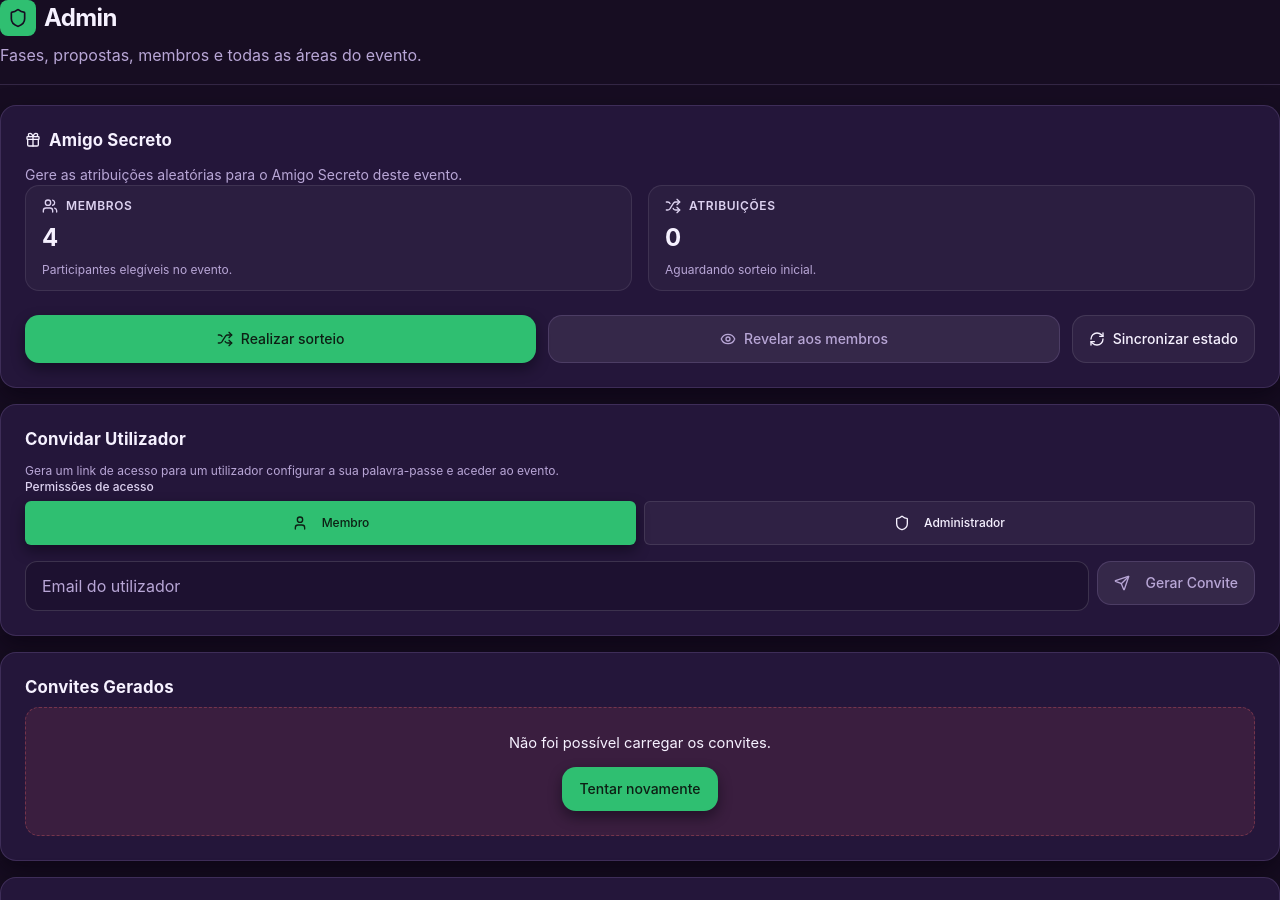
Test: CanhoesAdminModule — members › generates an invite link
Type "eva@canhoes.pt" into the field with placeholder "Email do utilizador".
click(557, 586); type("eva@canhoes.pt")  # box top-left (25, 561), bottom-right (1088, 611)
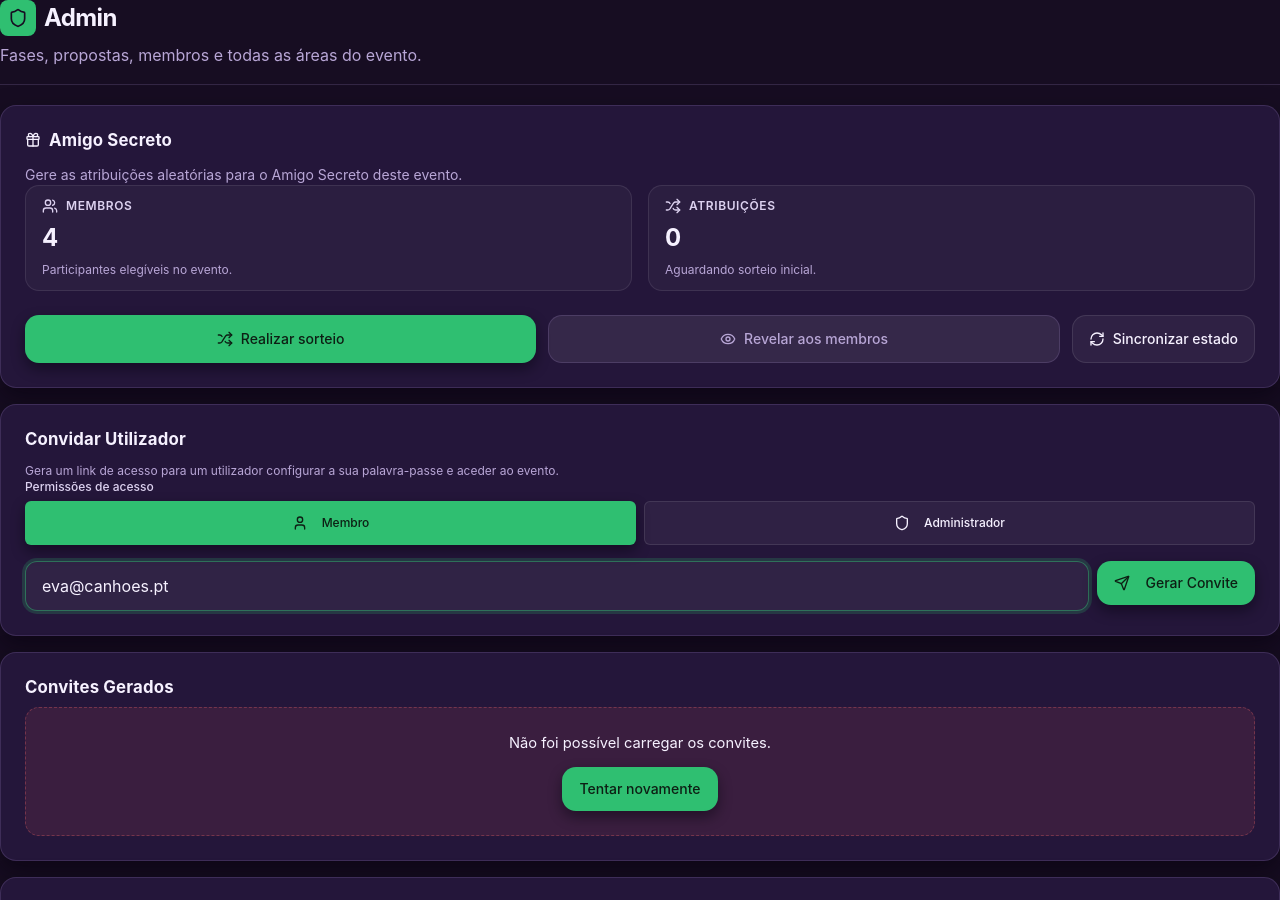
Click the button "Gerar Convite".
click(1176, 583)  # box top-left (1096, 561), bottom-right (1255, 605)
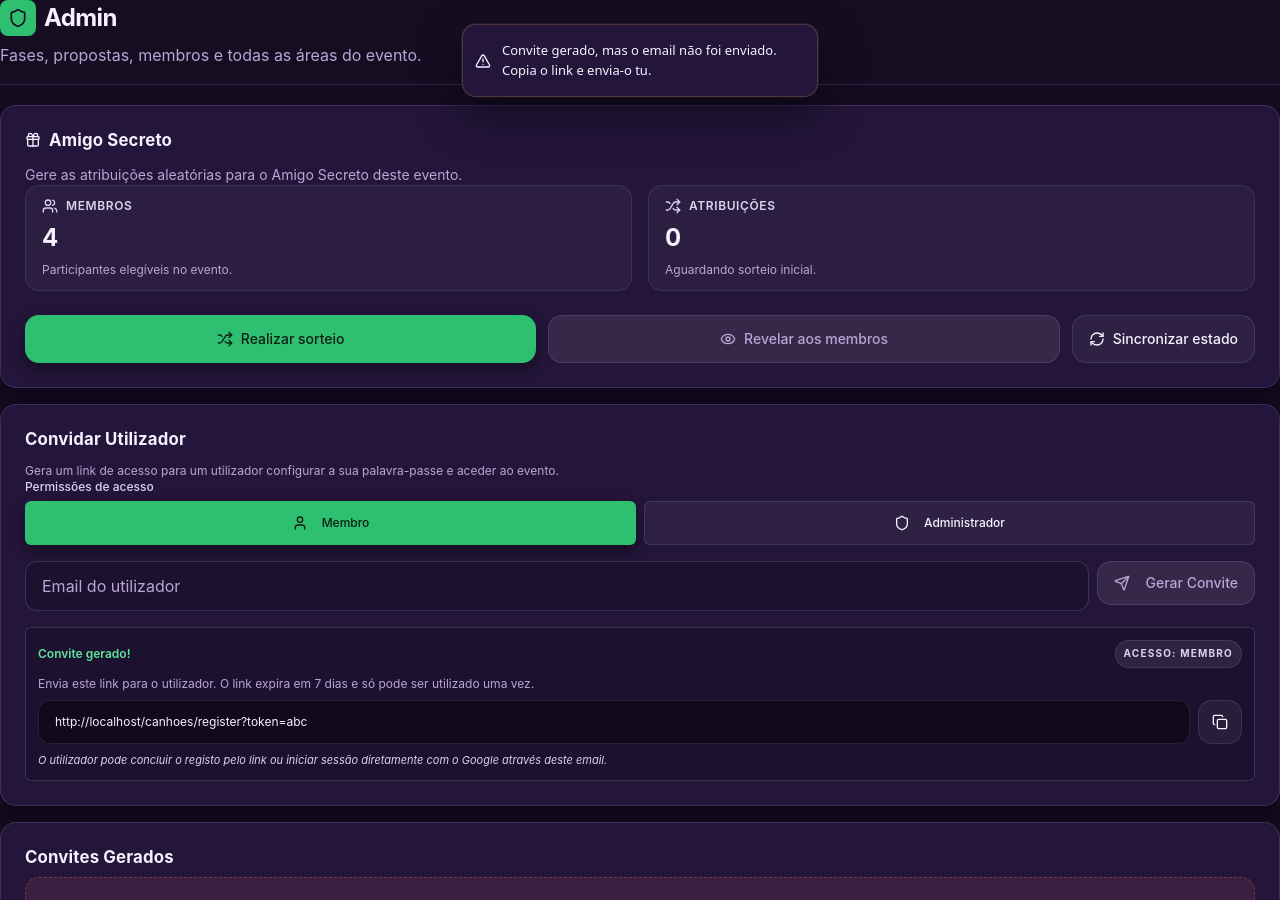
Result: the text "Convite gerado!" is shown at top-left (38, 646), bottom-right (130, 662)
Result: the text "Acesso: Membro" is shown at top-left (1115, 640), bottom-right (1242, 668)
Result: the field showing "register?token=abc" is shown at top-left (38, 700), bottom-right (1190, 744)
